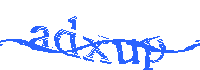a: (30, 25, 50, 50)
d: (54, 16, 80, 58)
p: (138, 36, 166, 70)
u: (112, 37, 139, 64)
x: (82, 36, 112, 65)
